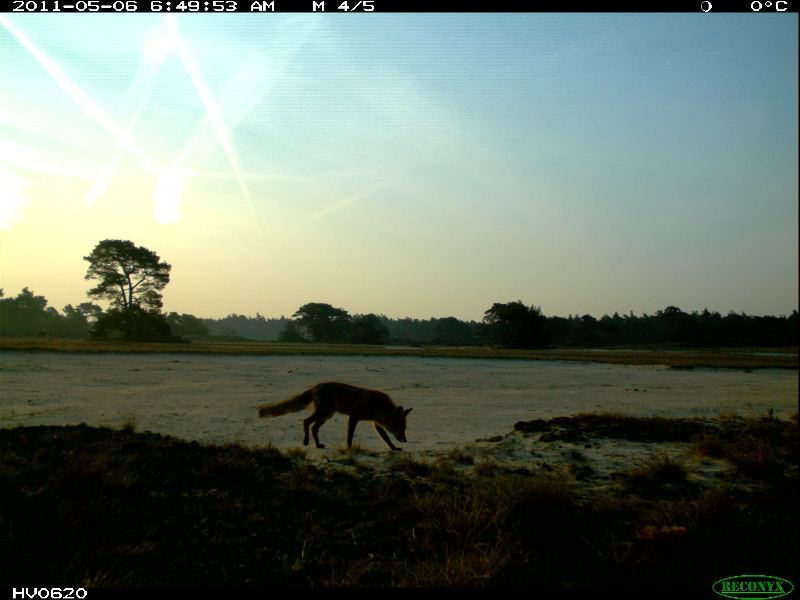fox: (251, 381, 417, 456)
